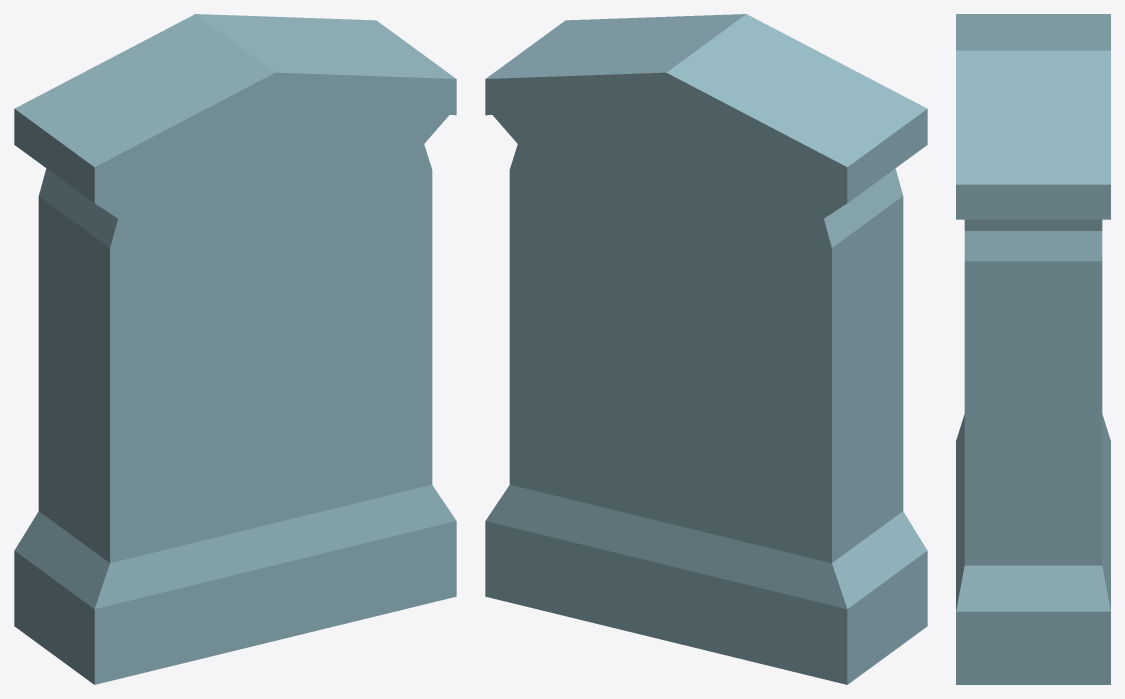
The model's file is gravestoneRoof.fbx.
3 renders of one model, left to right at view 1: azimuth 30°, elevation 25°; view 2: azimuth 150°, elevation 25°; view 3: azimuth 270°, elevation 25°, orthographic. The views are drawn at different scales.
Visible parts, largest first — view 1: gravestoneRoof; view 2: gravestoneRoof; view 3: gravestoneRoof.
Boxes of the visible parts, <box> form: gravestoneRoof: <box>14,14,456,684</box>; gravestoneRoof: <box>485,14,927,684</box>; gravestoneRoof: <box>956,14,1110,684</box>.
Bounding box in the file's own units: 3.9 × 5.85 × 1.5.
